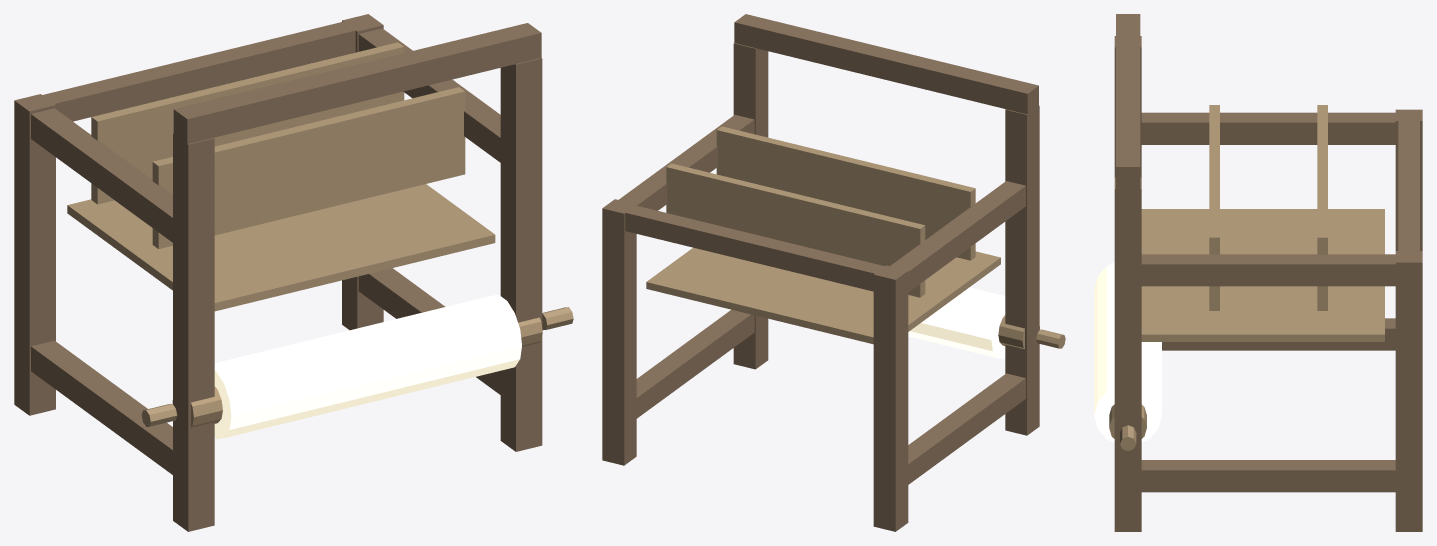
The model's file is korean-hanok-village-and-street-hand-loom-278890aa__38072.glb.
3 views of the same model, side by side, from view 1: azimuth 30°, elevation 25°; view 2: azimuth 150°, elevation 25°; view 3: azimuth 270°, elevation 25° (orthographic). The views are drawn at different scales.
Visible parts, largest first — view 1: hand-loom, loom-beam/paper, loom-beam/wood; view 2: hand-loom, loom-beam/paper, loom-beam/wood; view 3: hand-loom, loom-beam/paper, loom-beam/wood.
Boxes of the visible parts, x1,y1,x2,y2 form: hand-loom: [14, 14, 542, 531]; loom-beam/paper: [214, 294, 521, 439]; loom-beam/wood: [141, 307, 573, 427]; hand-loom: [602, 14, 1039, 531]; loom-beam/paper: [908, 287, 1005, 358]; loom-beam/wood: [998, 315, 1065, 349]; hand-loom: [1114, 14, 1422, 531]; loom-beam/paper: [1094, 262, 1161, 442]; loom-beam/wood: [1109, 404, 1146, 451].
Bounding box in the file's own units: 1.6 × 1.49 × 1.22.
